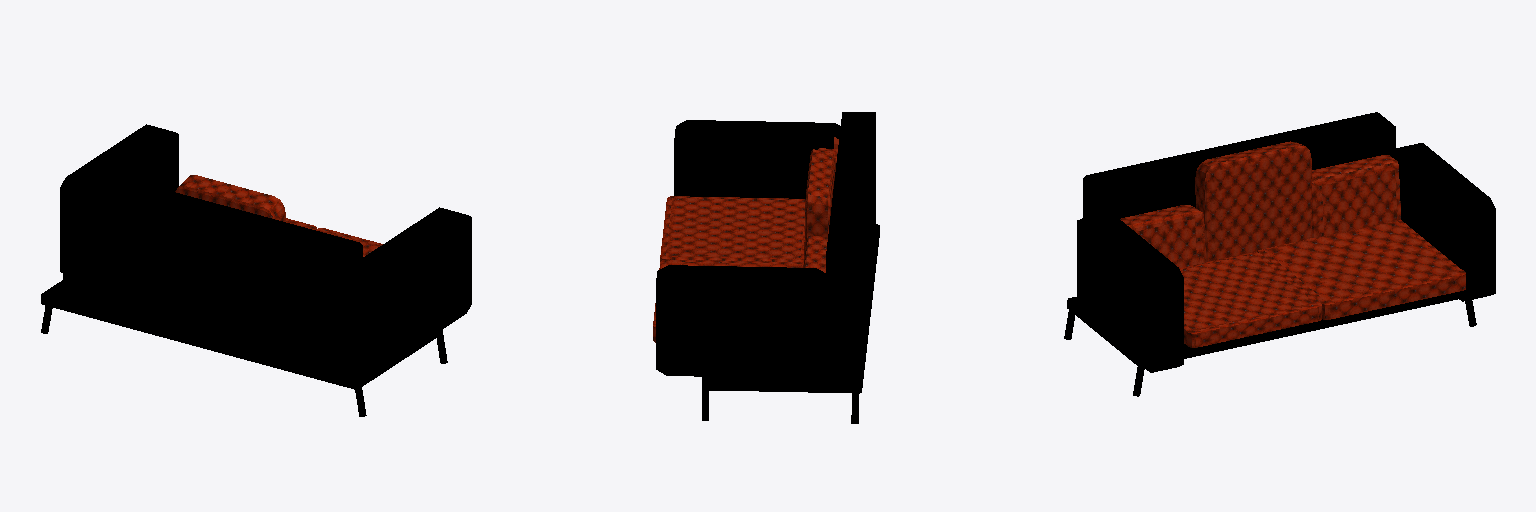
The picture shows the model from 3 angles: view 1: azimuth 30°, elevation 25°; view 2: azimuth 150°, elevation 25°; view 3: azimuth 270°, elevation 25°; orthographic projection.
Visible parts, largest first — view 1: sofa_001_sofa_001_Material_002; view 2: sofa_001_sofa_001_Material_002; view 3: sofa_001_sofa_001_Material_002.
Part boxes in pixels (left/top/right/bottom): sofa_001_sofa_001_Material_002: left=41, top=124, right=471, bottom=416; sofa_001_sofa_001_Material_002: left=653, top=112, right=879, bottom=423; sofa_001_sofa_001_Material_002: left=1064, top=112, right=1495, bottom=396.
Size of the model in its own units: 7.2 by 3.84 by 8.72.
2 materials, 1 textured.